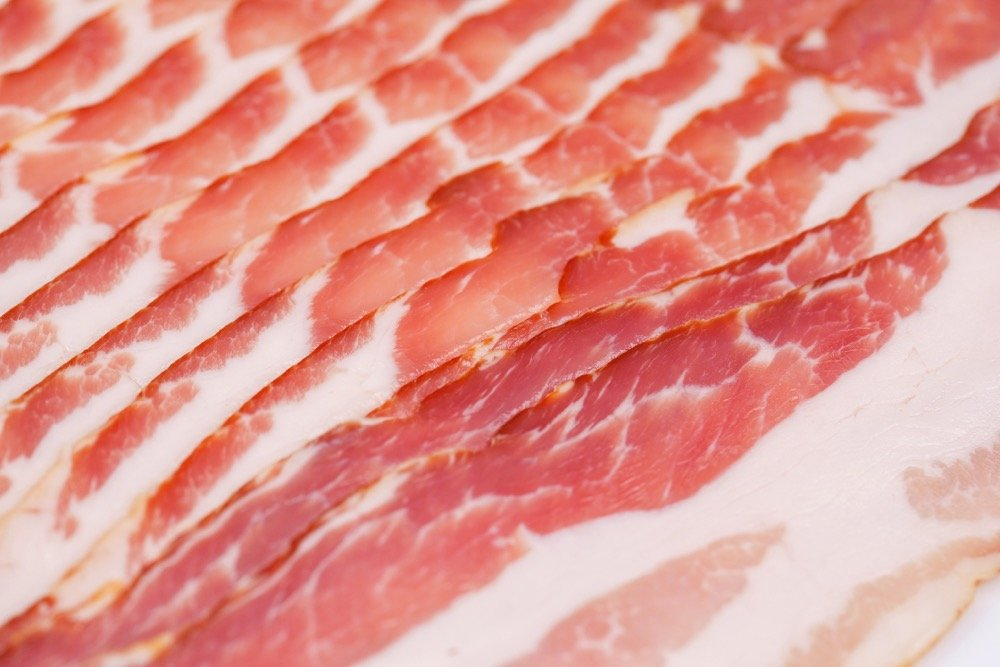bacon: (8, 6, 996, 661)
